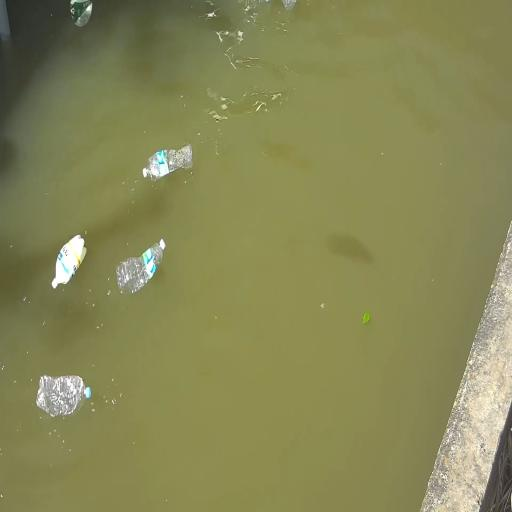plastic: (117, 239, 165, 293), (37, 375, 91, 417), (52, 234, 86, 289), (143, 144, 192, 179), (68, 0, 93, 29), (280, 0, 298, 12)
